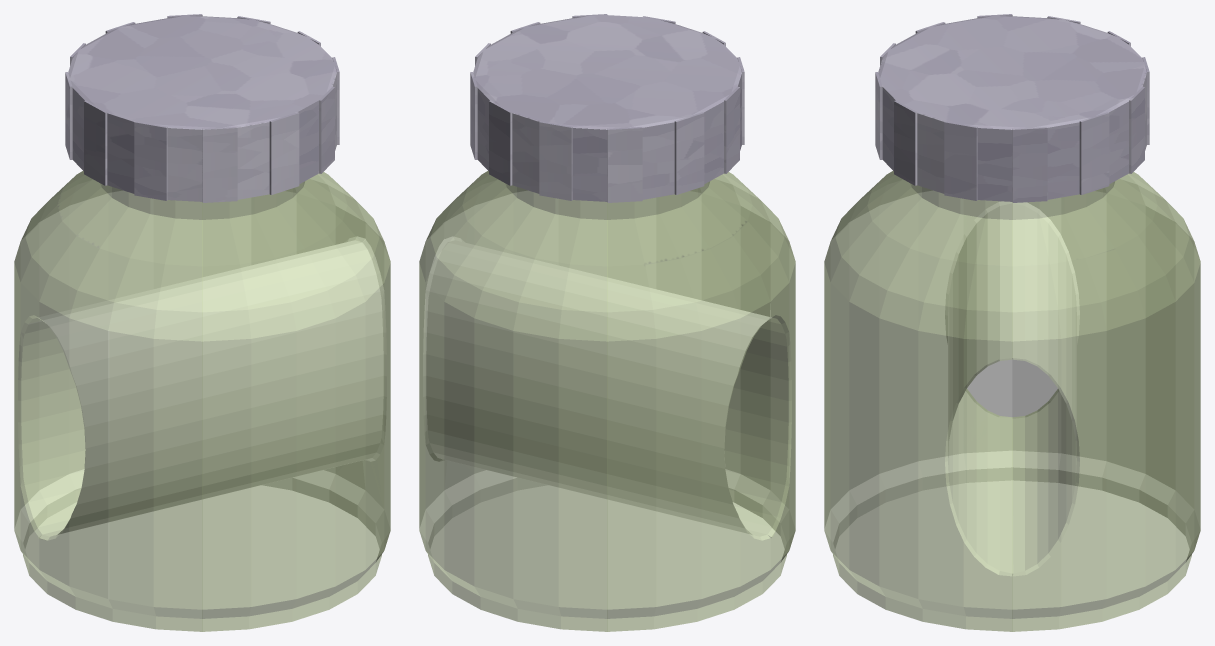
The model's file is Reagent bottle.glb.
3 views of the same model, side by side, from view 1: azimuth 30°, elevation 25°; view 2: azimuth 150°, elevation 25°; view 3: azimuth 270°, elevation 25° (orthographic).
Visible parts, largest first — view 1: Cirkel.002, Cirkel.001, Cirkel, Cylinder; view 2: Cirkel.002, Cirkel.001, Cirkel, Cylinder; view 3: Cirkel.002, Cirkel, Cirkel.001, Cylinder.
Boxes of the visible parts, bbox=[...] form: Cirkel.002: bbox=[14, 171, 390, 631]; Cirkel.001: bbox=[23, 194, 390, 631]; Cirkel: bbox=[14, 171, 390, 631]; Cylinder: bbox=[65, 14, 339, 202]; Cirkel.002: bbox=[419, 171, 795, 631]; Cirkel.001: bbox=[419, 195, 786, 631]; Cirkel: bbox=[419, 171, 795, 631]; Cylinder: bbox=[470, 14, 744, 202]; Cirkel.002: bbox=[824, 171, 1200, 631]; Cirkel: bbox=[824, 171, 1200, 631]; Cirkel.001: bbox=[833, 191, 1191, 631]; Cylinder: bbox=[875, 14, 1149, 202].
Bounding box in the file's own units: 2.12 × 2.98 × 2.1.
Materials: 2 (2 with a texture image).
